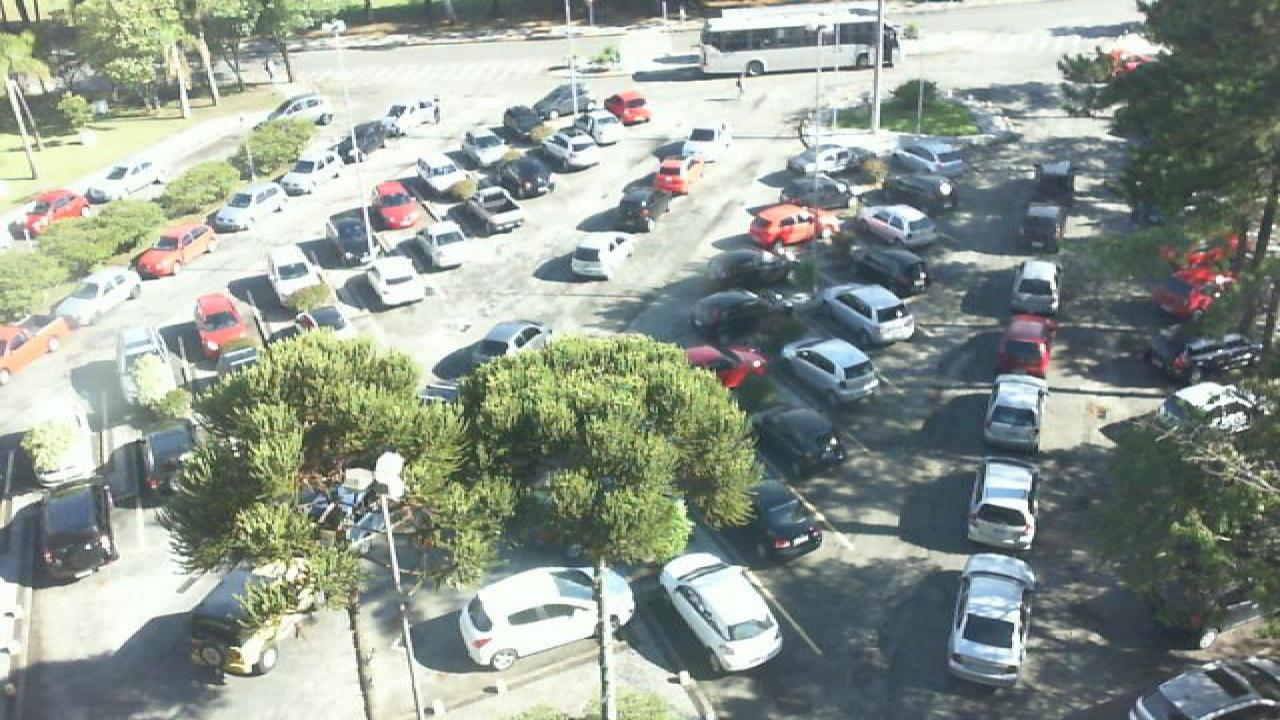Car: (456, 564, 640, 672), (656, 552, 786, 676), (946, 552, 1038, 684), (1126, 656, 1280, 720), (722, 480, 824, 562), (38, 487, 120, 583), (778, 338, 884, 409), (1138, 329, 1260, 388), (752, 403, 848, 477), (964, 456, 1038, 551), (812, 282, 918, 346), (46, 264, 140, 330), (1160, 381, 1276, 433), (690, 290, 810, 339), (194, 292, 262, 373), (130, 217, 220, 277), (138, 423, 204, 502), (980, 375, 1048, 451), (840, 242, 934, 294), (1144, 266, 1230, 320), (676, 342, 770, 390), (0, 318, 72, 380), (708, 248, 802, 294), (748, 202, 840, 248), (212, 176, 286, 229), (996, 314, 1054, 381), (856, 204, 944, 248), (266, 247, 330, 305), (468, 318, 552, 362), (412, 212, 478, 266), (366, 256, 432, 310), (450, 182, 520, 231), (326, 209, 382, 268), (568, 231, 636, 278), (22, 189, 88, 236), (1008, 259, 1060, 318), (886, 170, 964, 209), (368, 178, 424, 230), (894, 138, 970, 176), (778, 172, 850, 212), (494, 154, 556, 199), (540, 129, 604, 170), (614, 187, 672, 231), (808, 140, 874, 178), (286, 152, 344, 194), (414, 154, 468, 199), (266, 92, 332, 127), (1020, 202, 1064, 254), (346, 117, 406, 153), (454, 133, 508, 173), (600, 90, 652, 127), (680, 122, 728, 162), (1032, 160, 1074, 202), (384, 98, 442, 128), (652, 158, 700, 194), (486, 117, 532, 151)
